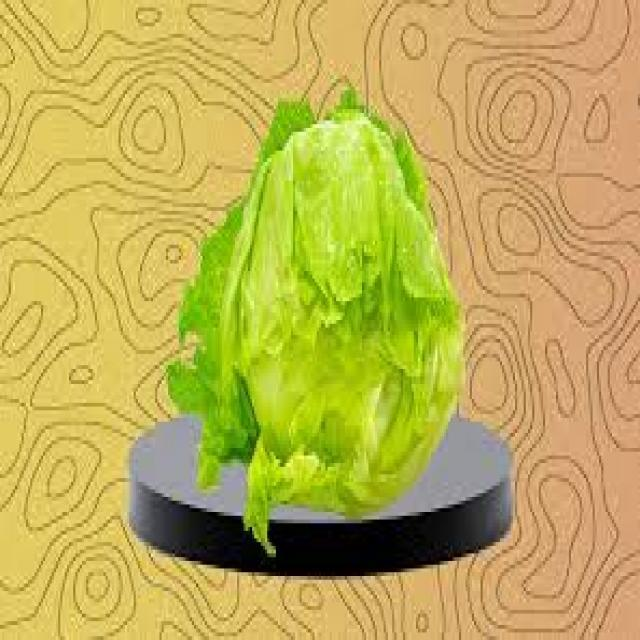Lettuce: (166, 86, 462, 558)
